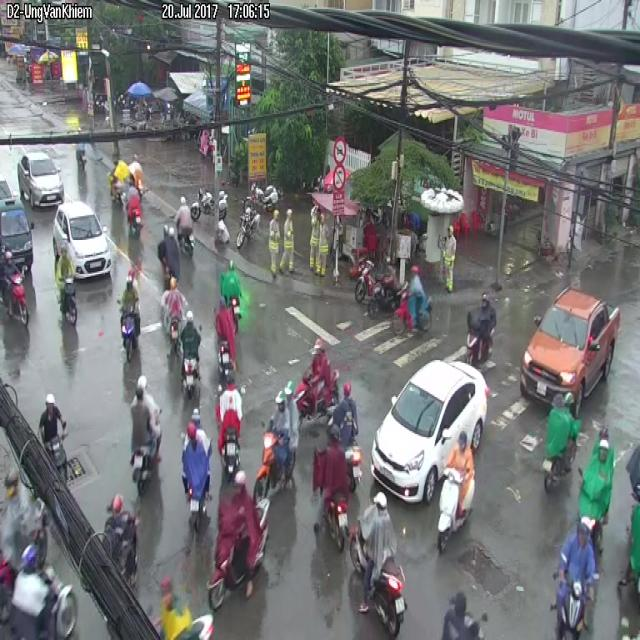car: (354, 259, 403, 308)
traffic-light: (371, 361, 489, 502), (520, 287, 620, 410), (53, 201, 112, 279), (18, 151, 63, 207)
